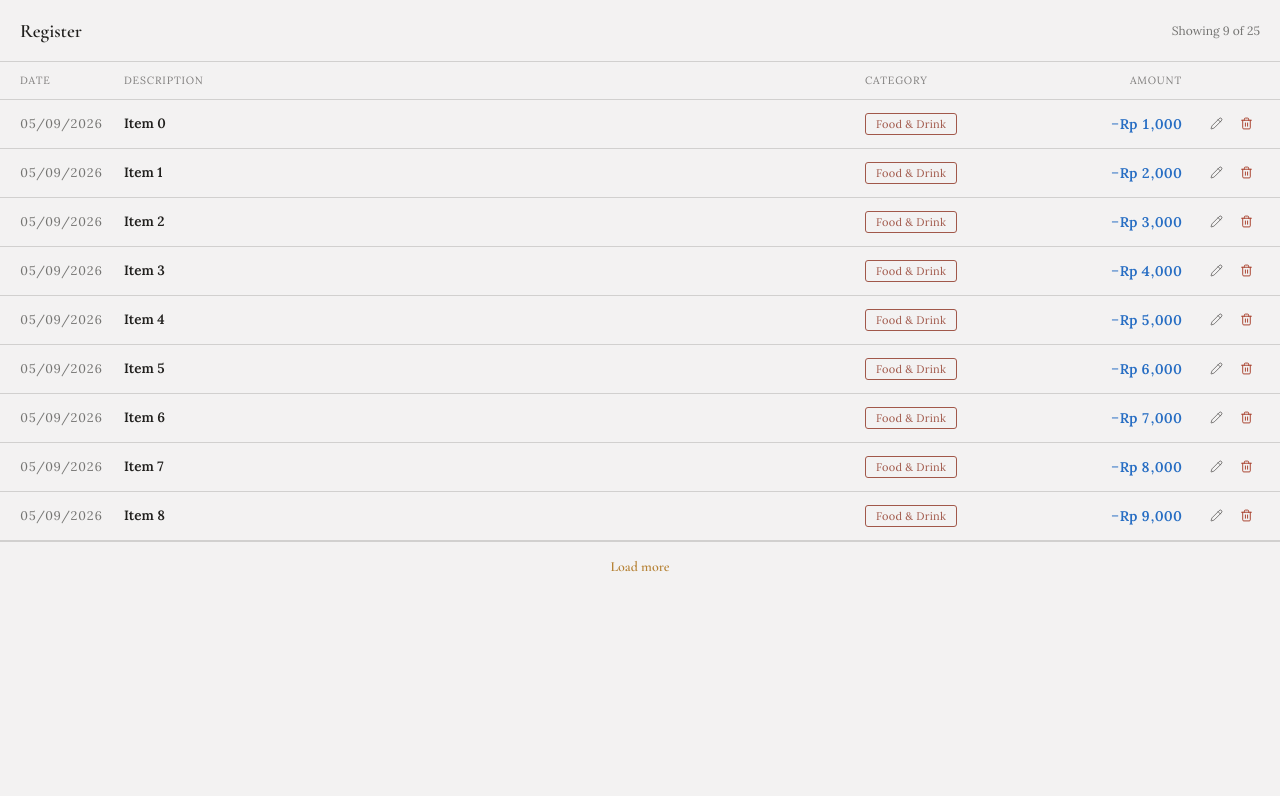
Test: TransactionList pagination › reveals another page on Load more and updates the count
This screenshot has width=1280, height=796.
Step 1. Click the button "Load more" → [640, 567], box [610, 557, 670, 577]
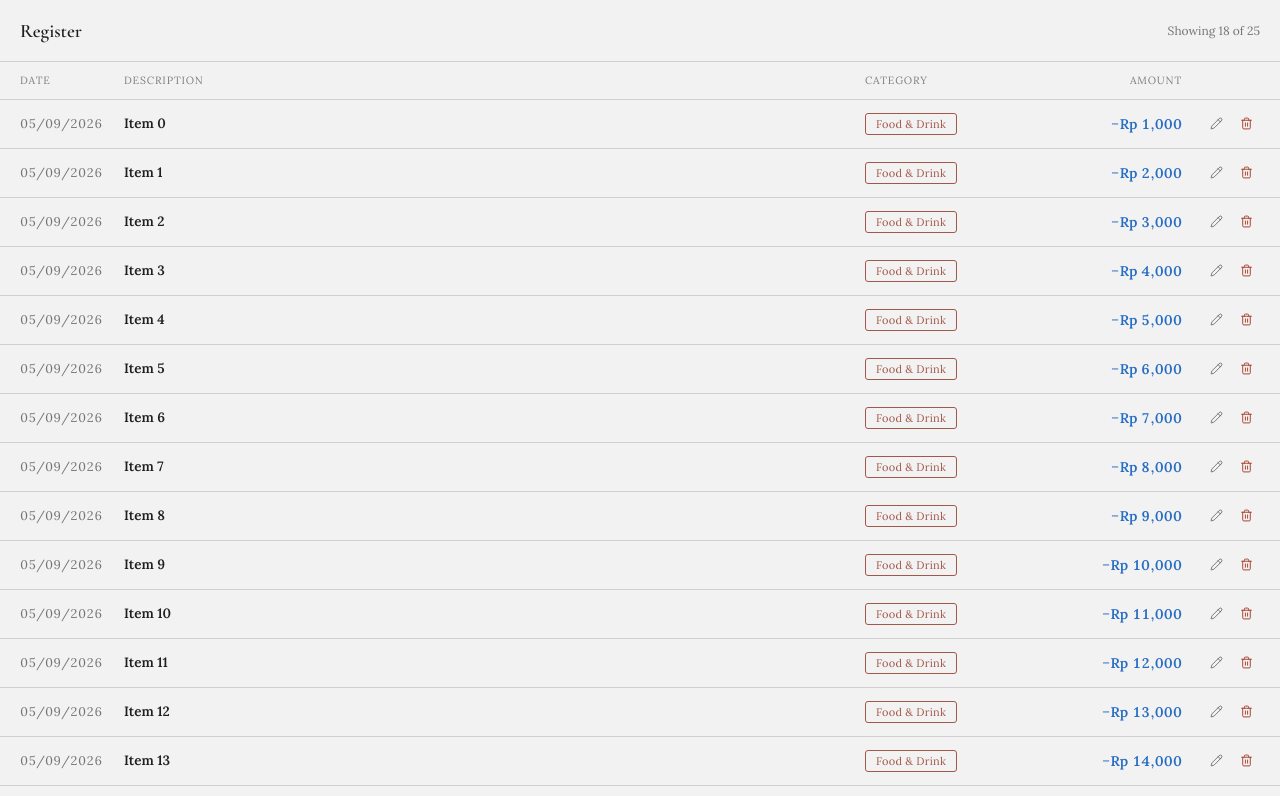
Result: the text "Showing 18 of 25" is shown at [1168, 23, 1260, 39]
Result: the text "Item 9" is shown at [124, 555, 165, 573]
